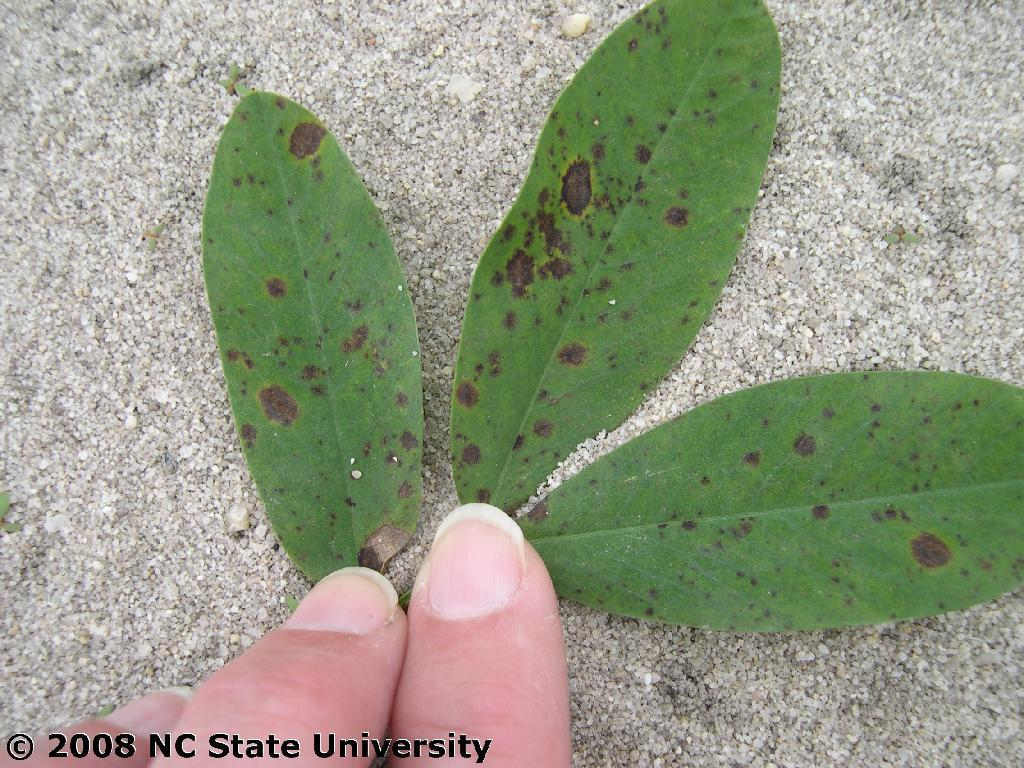black-spot: (226, 154, 409, 511), (849, 396, 994, 504)
